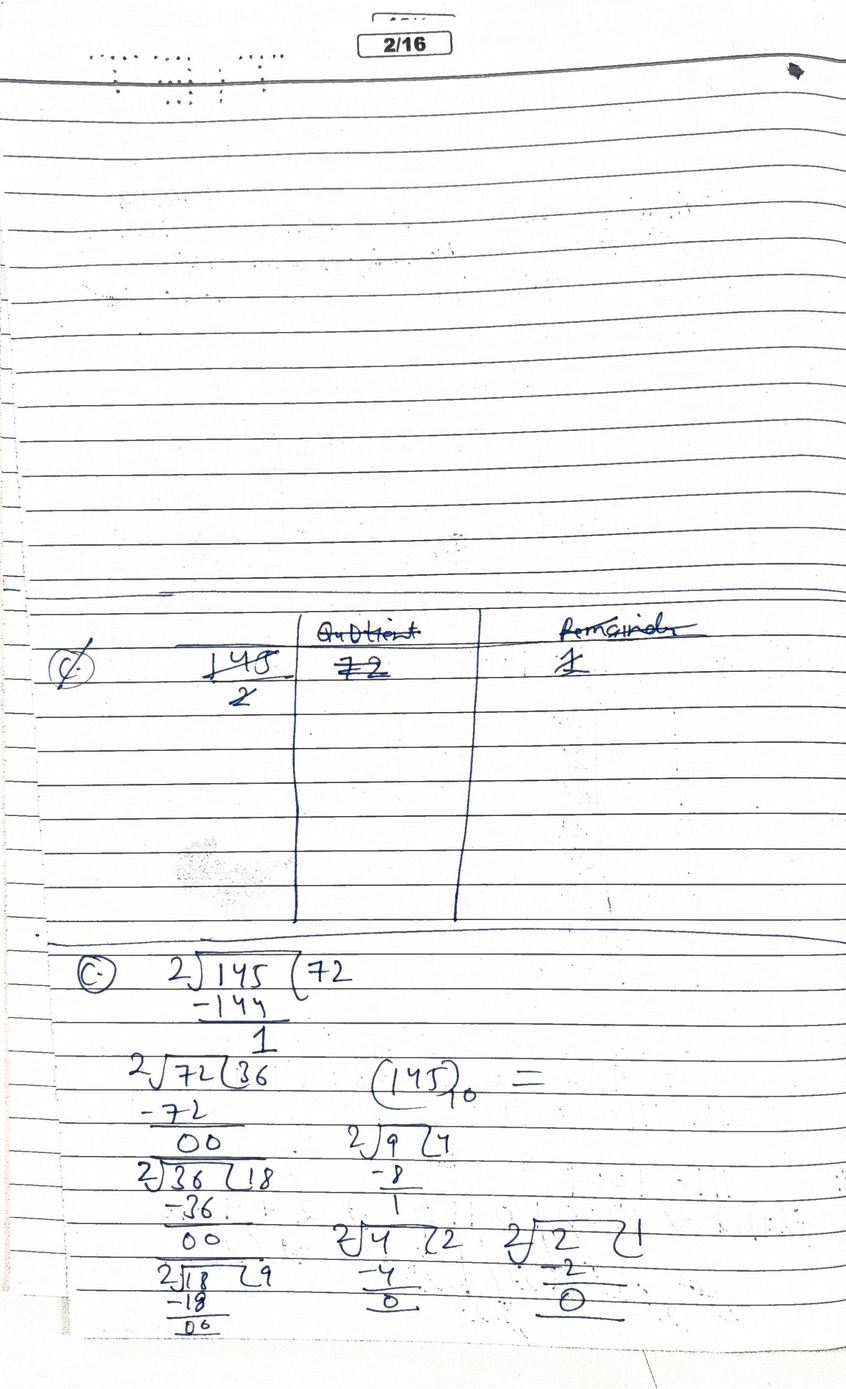cuttings: (205, 642, 290, 711), (557, 611, 698, 644), (315, 617, 423, 646), (47, 637, 97, 691), (334, 652, 391, 676), (553, 648, 591, 678)
